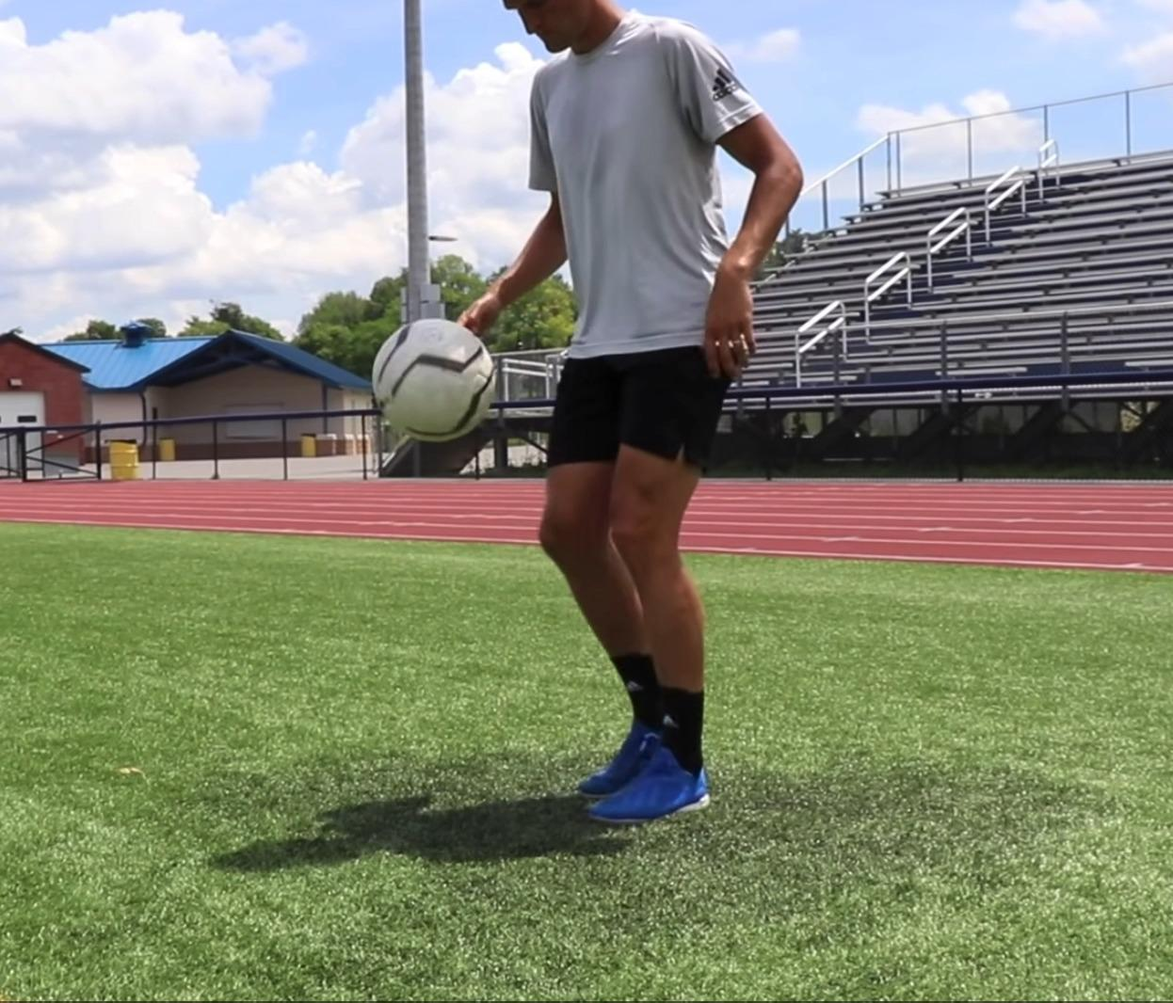ball: (372, 318, 495, 443)
foot: (582, 738, 712, 826)
person: (456, 0, 805, 828)
